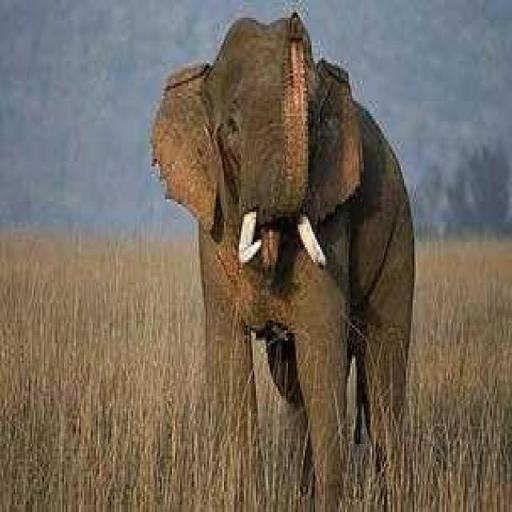Elephant: (148, 10, 416, 507)
